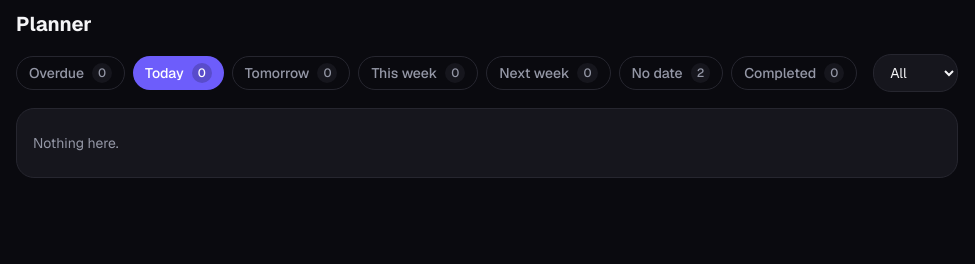
Test: PlannerPage › shows a Schedule control on open items with a contact and hides it once scheduled
Click the button "No date 2" at (671, 73), box left=618, top=56, right=723, bottom=90
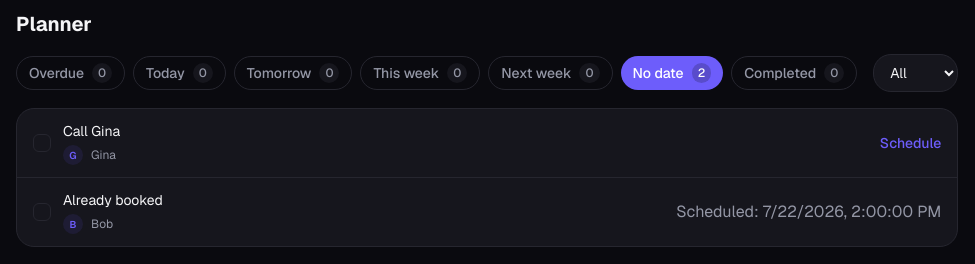
Check: the text "Call Gina" is shown, box left=63, top=122, right=120, bottom=140
Check: the button "Schedule" is shown, box left=880, top=133, right=941, bottom=153
Check: the text "Scheduled: 7/22/2026, 2:00:00 PM" is shown, box left=676, top=200, right=941, bottom=224
